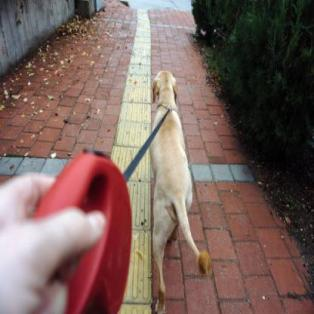Podoctatil: (128, 8, 150, 75)
